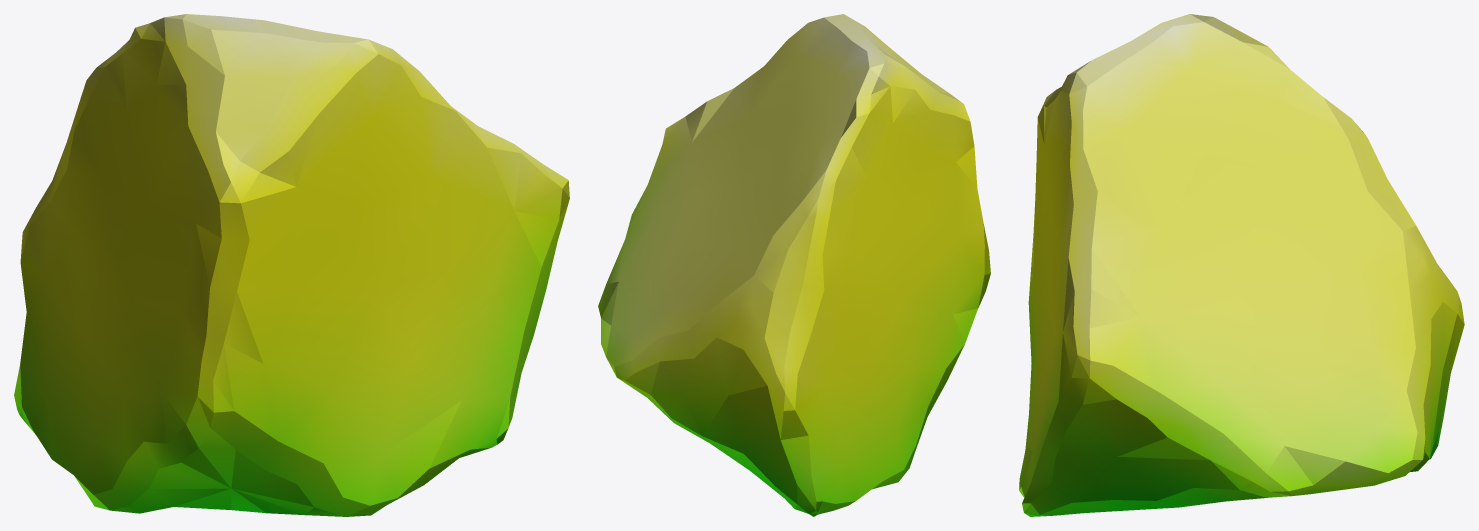
The model's file is rock_solo_03_LOD0.fbx.
3 renders of one model, left to right at view 1: azimuth 30°, elevation 25°; view 2: azimuth 150°, elevation 25°; view 3: azimuth 270°, elevation 25°, orthographic. The views are drawn at different scales.
Parts seen in each view (by area): view 1: LOD0; view 2: LOD0; view 3: LOD0.
Part boxes in pixels (bbox=[...]): LOD0: bbox=[14, 14, 569, 516]; LOD0: bbox=[598, 14, 990, 516]; LOD0: bbox=[1019, 14, 1464, 516].
Size of the model in its own units: 25418 by 30885 by 26268.
